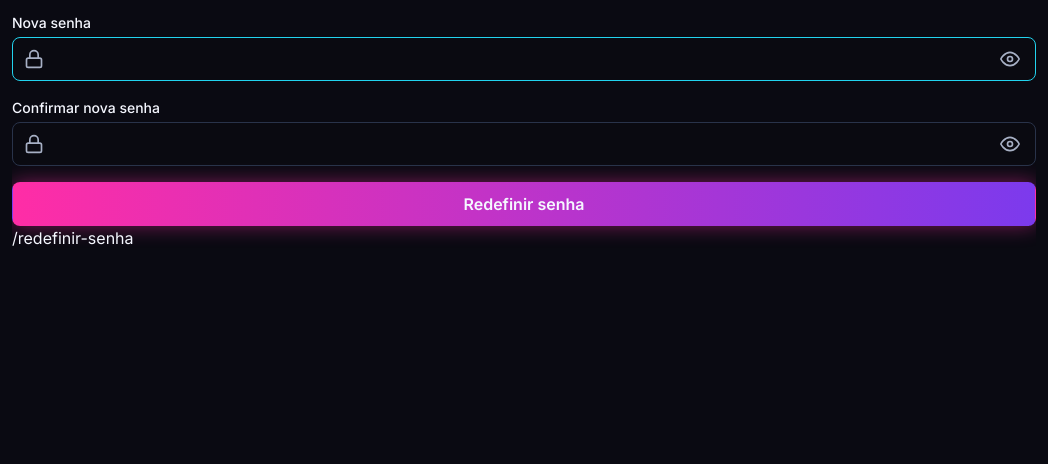
ResetPasswordForm (AUTH-003) › envia o token e a nova senha; sucesso orienta a entrar de novo
In the password field labelled "Nova senha": (524, 59) [12, 37, 1036, 81], type "Nova-Frase-Longa-Segura-1"
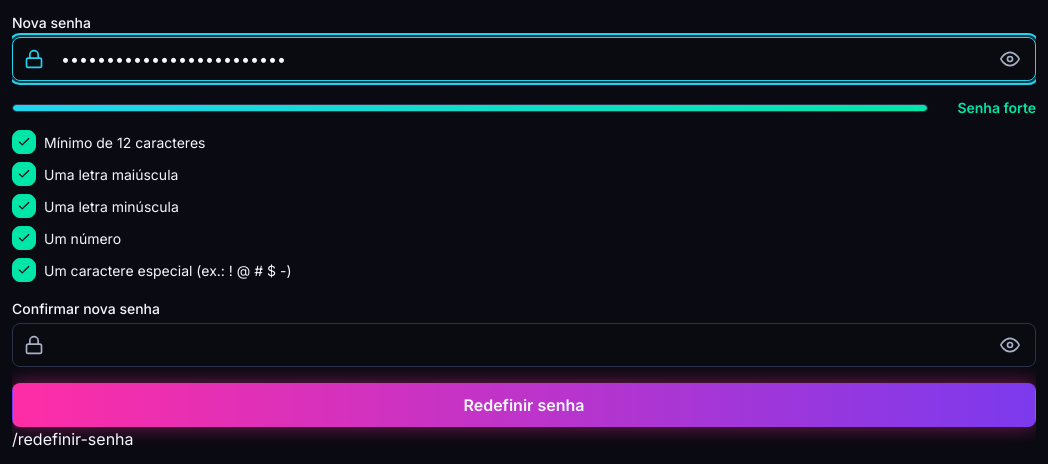
In the password field labelled "Confirmar nova senha": (524, 345) [12, 323, 1036, 367], type "Nova-Frase-Longa-Segura-1"
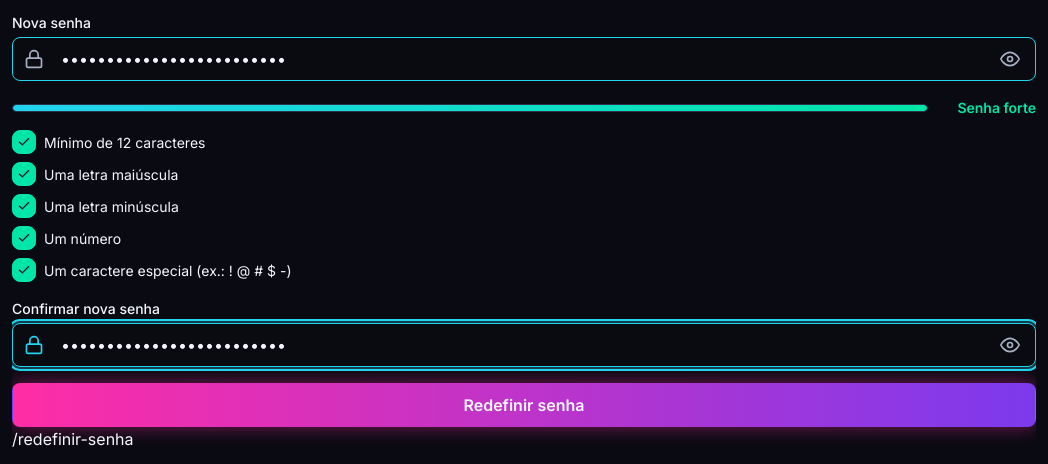
Click the button "Redefinir senha": (524, 405) [12, 383, 1036, 427]
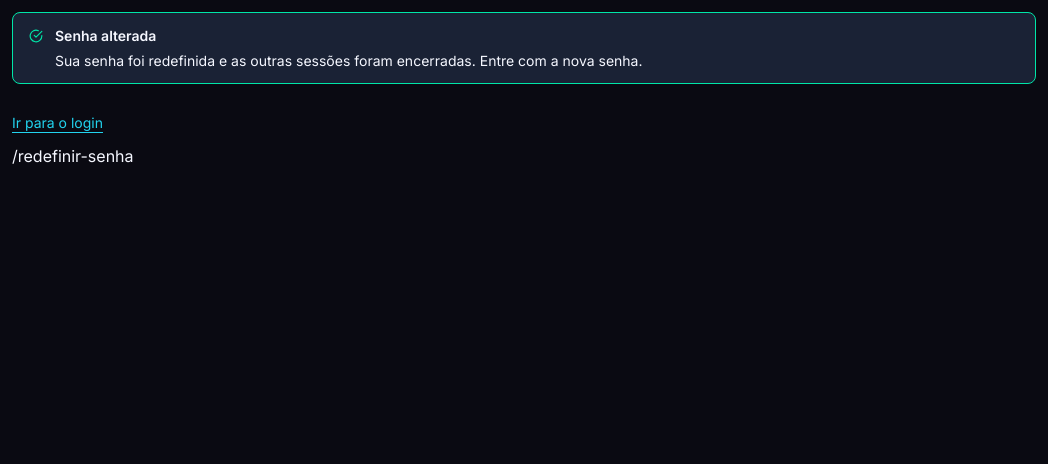
Check: the message shows "Senha alterada", box [55, 27, 156, 44]
